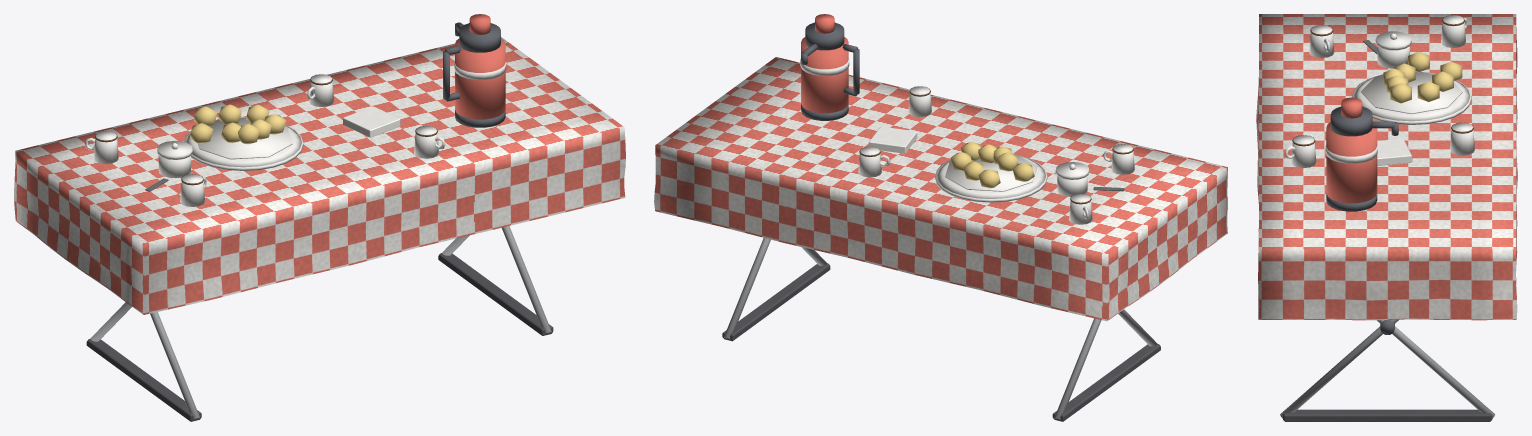
The model's file is Cafe_BreakTable.fbx.
The picture shows the model from 3 angles, left to right: view 1: azimuth 30°, elevation 25°; view 2: azimuth 150°, elevation 25°; view 3: azimuth 270°, elevation 25°; orthographic projection. The views are drawn at different scales.
Parts seen in each view (by area): view 1: Cafe_BreakTable; view 2: Cafe_BreakTable; view 3: Cafe_BreakTable.
Part boxes in pixels (x1=…): Cafe_BreakTable: x1=14, y1=14, x2=625, y2=421; Cafe_BreakTable: x1=654, y1=14, x2=1227, y2=421; Cafe_BreakTable: x1=1256, y1=14, x2=1517, y2=421.
Bounding box in the file's own units: 1.87 × 1.11 × 0.8737.
Materials: 1 (1 with a texture image).
